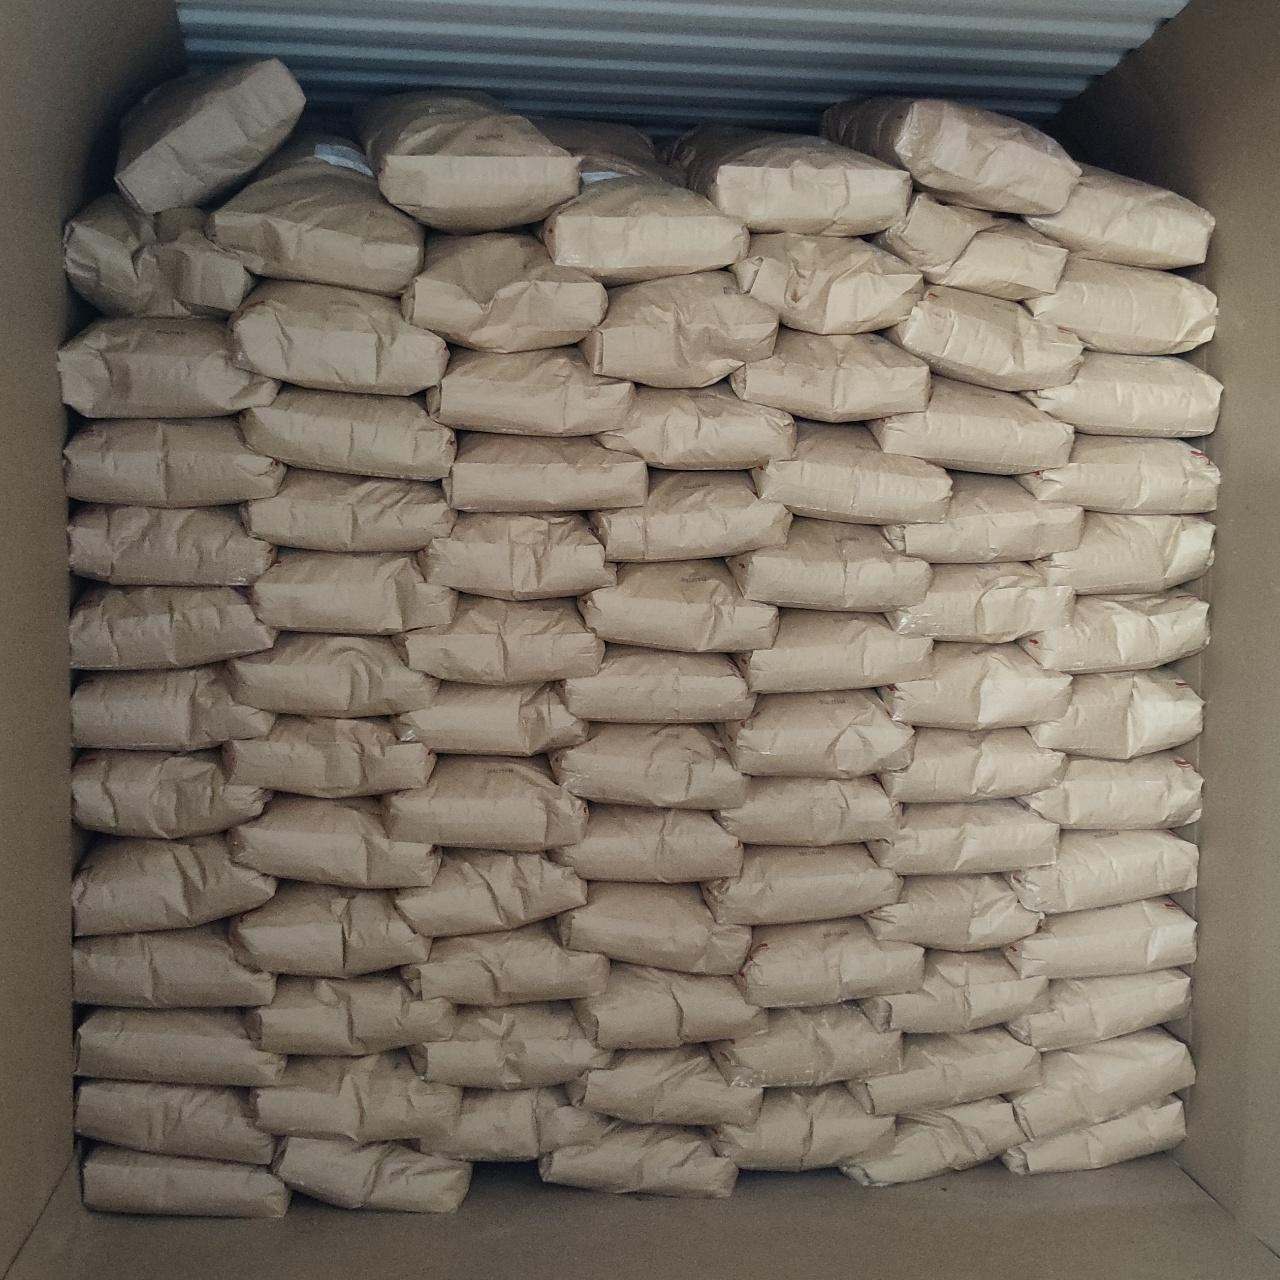sack: (205, 129, 423, 297), (532, 120, 748, 286), (356, 91, 583, 230), (824, 98, 1076, 215), (116, 60, 302, 212), (674, 130, 910, 232), (230, 280, 445, 390), (402, 234, 606, 350), (66, 195, 254, 318), (583, 272, 778, 382), (60, 318, 278, 414), (884, 286, 1080, 390), (72, 835, 274, 934), (874, 195, 1065, 298), (241, 386, 454, 478), (753, 422, 949, 522), (1022, 166, 1212, 268), (1010, 1028, 1192, 1133), (230, 796, 438, 886), (731, 234, 922, 332), (230, 881, 430, 974), (870, 377, 1070, 470), (254, 1051, 459, 1142), (1024, 254, 1214, 350), (66, 418, 284, 502), (728, 518, 926, 610), (730, 328, 928, 420), (384, 756, 583, 846), (394, 595, 602, 680), (72, 663, 274, 750), (556, 881, 750, 972), (240, 468, 454, 550), (580, 560, 774, 651), (229, 634, 438, 716), (74, 750, 270, 838), (590, 472, 790, 558), (246, 972, 454, 1054), (428, 348, 629, 433), (70, 586, 274, 668), (402, 922, 606, 1005), (224, 716, 434, 796), (1022, 352, 1220, 436), (884, 474, 1082, 558), (74, 922, 274, 1006), (252, 550, 454, 632), (76, 1080, 272, 1164), (410, 1005, 612, 1085), (598, 384, 794, 468), (420, 515, 614, 598), (396, 850, 586, 934), (70, 504, 274, 583), (76, 1008, 286, 1084), (738, 918, 920, 1006), (738, 610, 932, 692), (720, 690, 910, 774), (552, 724, 744, 806), (847, 1030, 1039, 1112), (574, 964, 764, 1046), (880, 644, 1070, 726), (708, 1084, 894, 1167), (1030, 668, 1201, 758), (704, 844, 900, 922), (710, 1005, 900, 1085), (445, 434, 646, 510), (1017, 434, 1218, 510), (1006, 830, 1196, 910), (1020, 590, 1206, 670), (842, 1098, 1022, 1182), (568, 1046, 760, 1124), (860, 949, 1046, 1030), (1001, 1095, 1185, 1175), (272, 1138, 470, 1212), (561, 646, 753, 722), (1008, 971, 1190, 1050), (1005, 898, 1194, 974), (888, 564, 1073, 642), (84, 1144, 290, 1214), (394, 682, 588, 756), (554, 804, 742, 880), (540, 1122, 734, 1196), (1017, 753, 1200, 830), (414, 1088, 608, 1158), (1034, 515, 1212, 590), (870, 802, 1058, 872), (880, 728, 1062, 799), (866, 876, 1040, 949), (716, 776, 900, 844)
